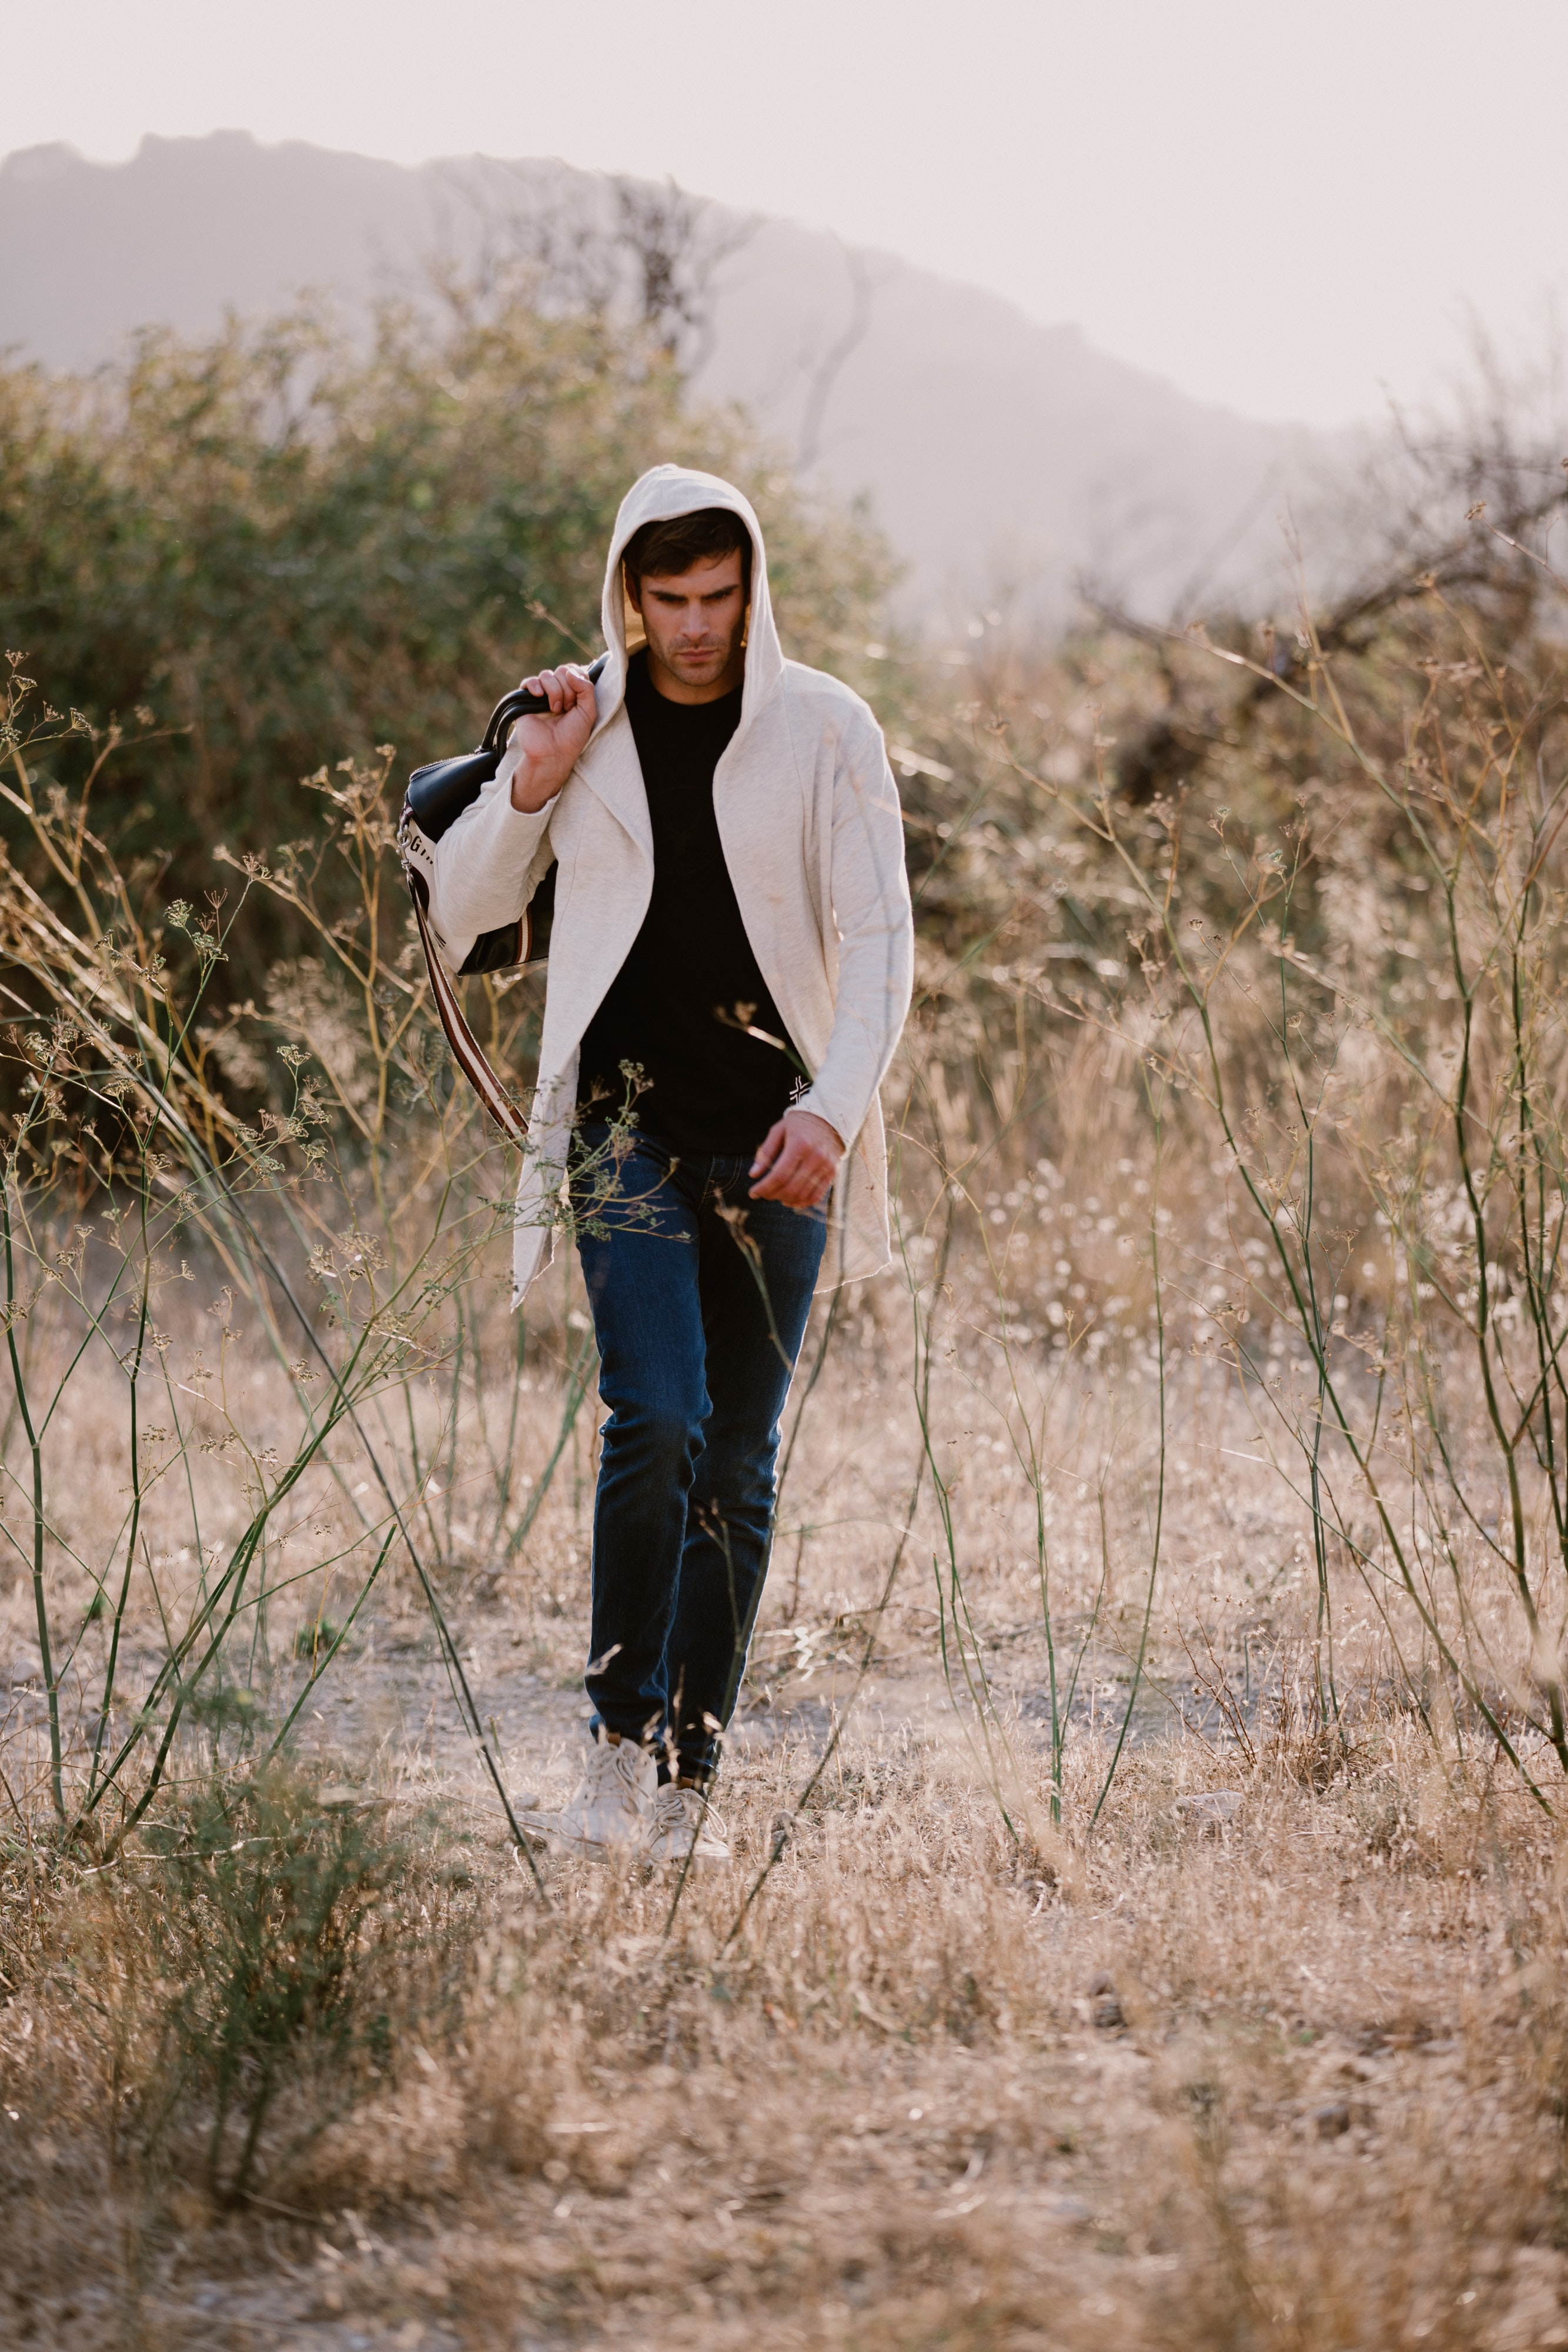person: (435, 468, 911, 1846)
